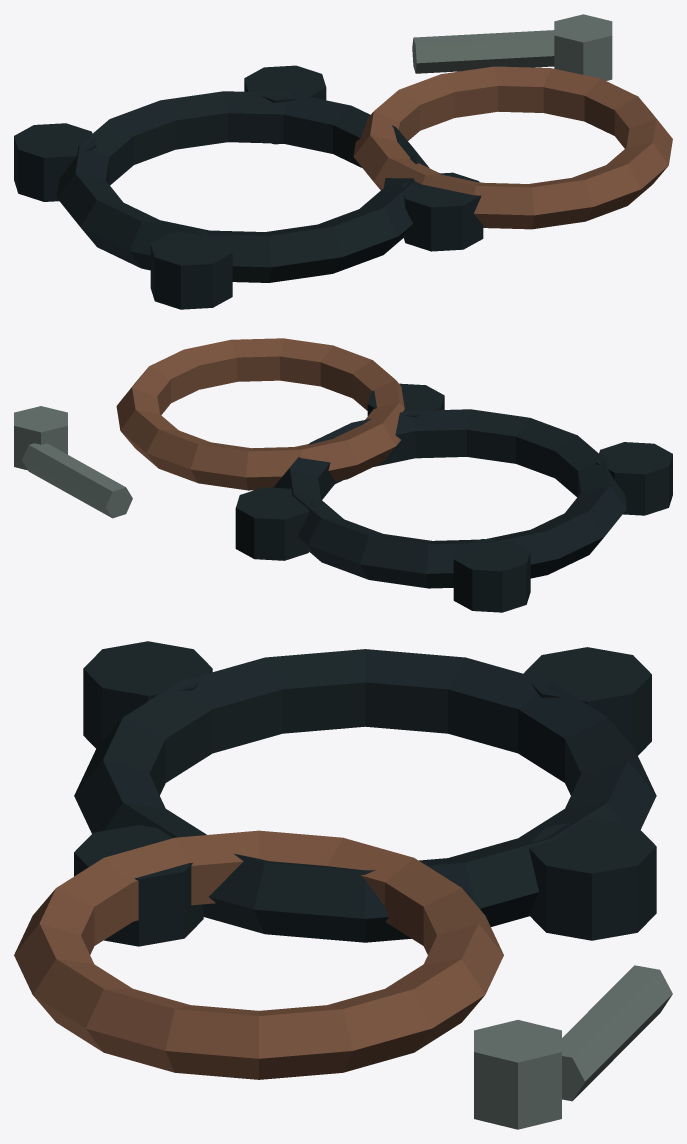
File: pump-seal-kit.glb
3 renders of one model, top to bottom at view 1: azimuth 30°, elevation 25°; view 2: azimuth 150°, elevation 25°; view 3: azimuth 270°, elevation 25°, orthographic. The views are drawn at different scales.
Parts seen in each view (by area): view 1: pump-seal-kit; view 2: pump-seal-kit; view 3: pump-seal-kit.
Boxes of the visible parts, x1,y1,x2,y2 form: pump-seal-kit: (14, 14, 672, 309); pump-seal-kit: (14, 338, 672, 612); pump-seal-kit: (14, 641, 672, 1129).
Size of the model in its own units: 0.221 by 0.0192 by 0.1425.
